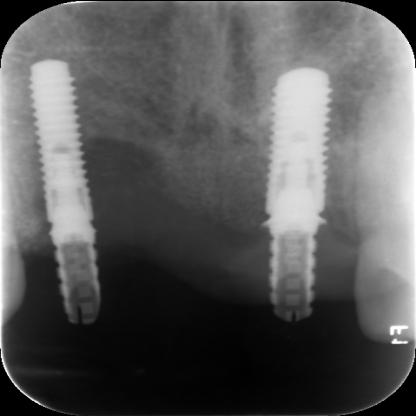ITI: (18, 54, 110, 240), (258, 62, 338, 232)
